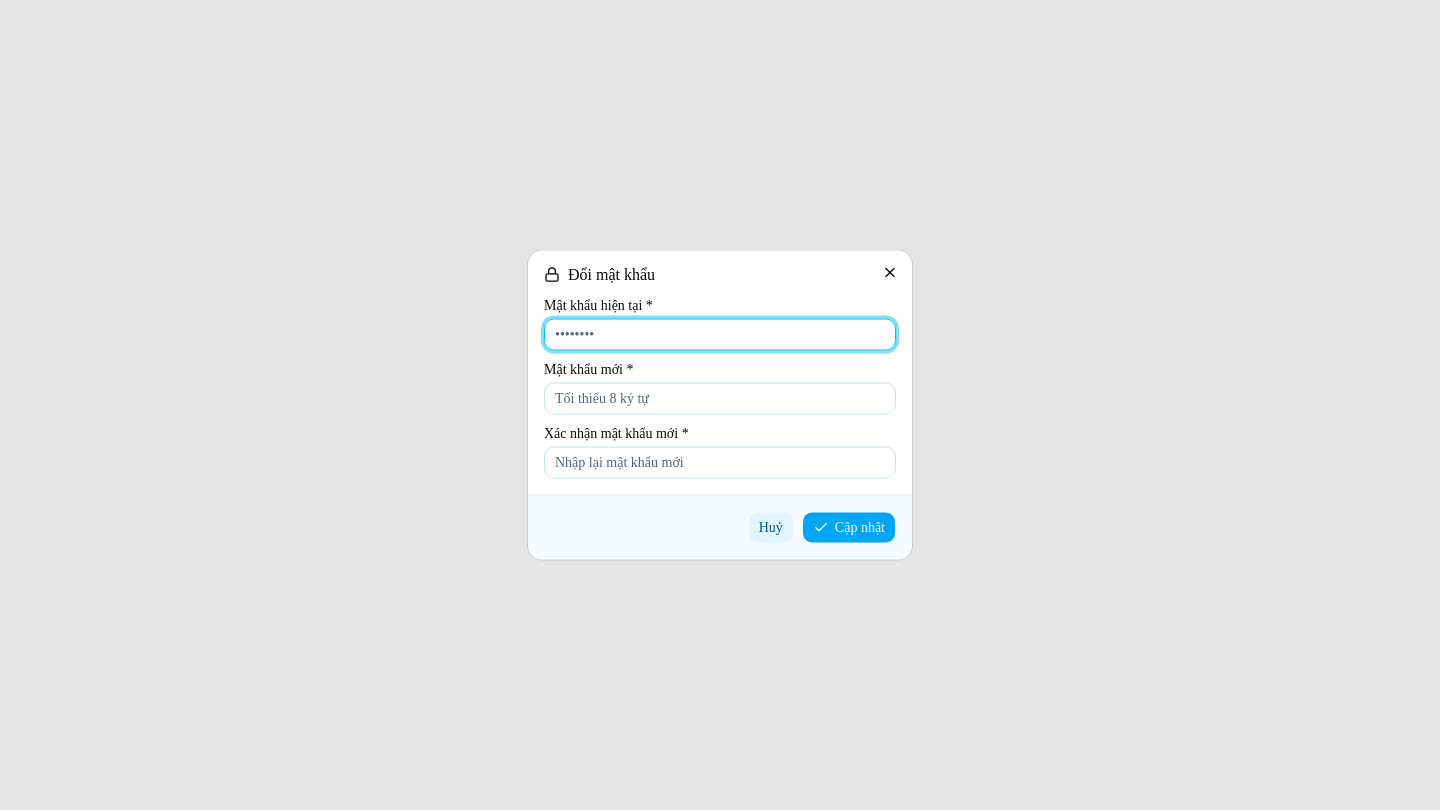
Test case: ChangePasswordModal › on 400 (sai mật khẩu cũ): shows inline error under matKhauCu
The image size is (1440, 810).
Step 1. Type "wrongOldPw" into the password field labelled "Mật khẩu hiện tại *" → (720, 334), box x1=544 y1=318 x2=896 y2=350
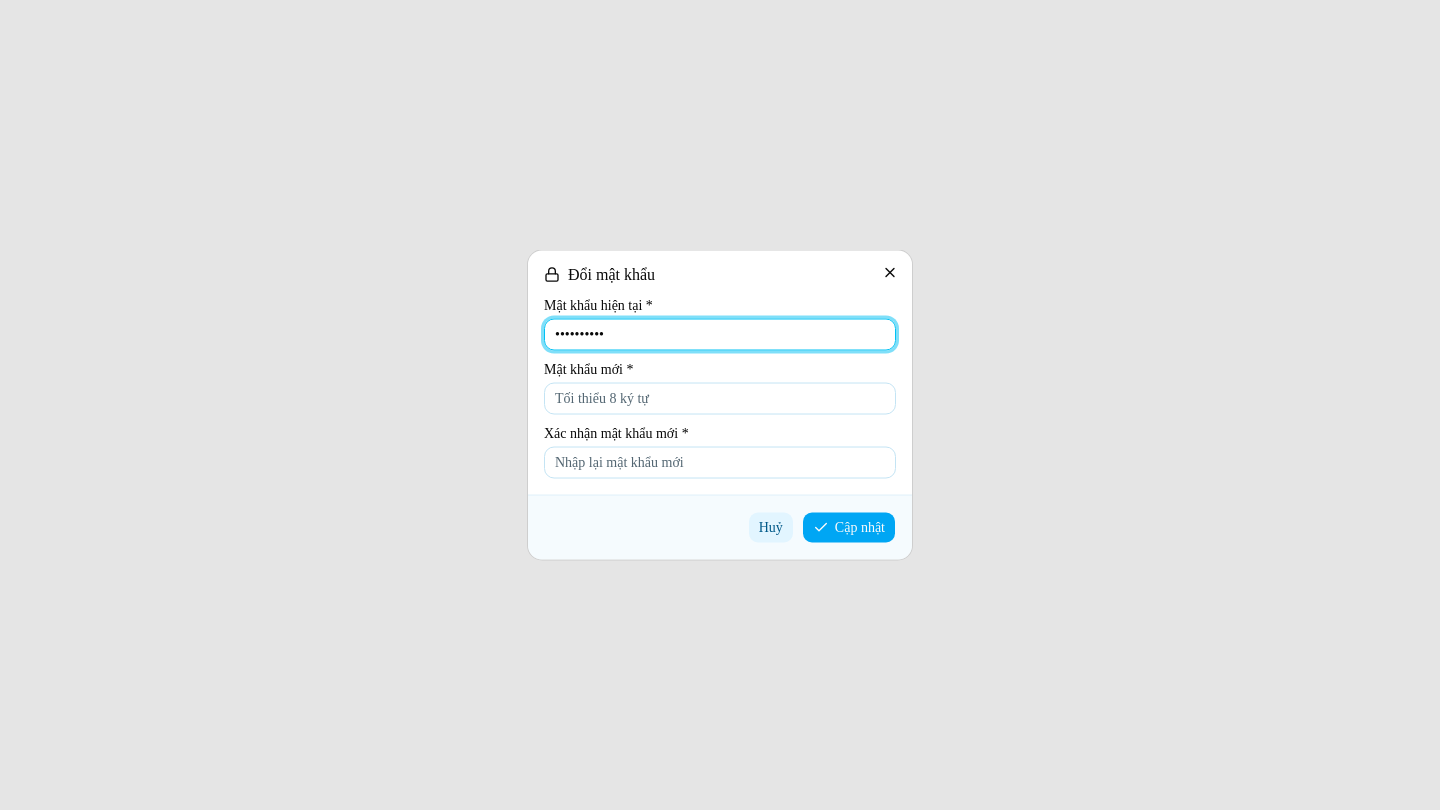
Step 2. Type "newSecret9" into the password field labelled "Mật khẩu mới *" → (720, 398), box x1=544 y1=382 x2=896 y2=414
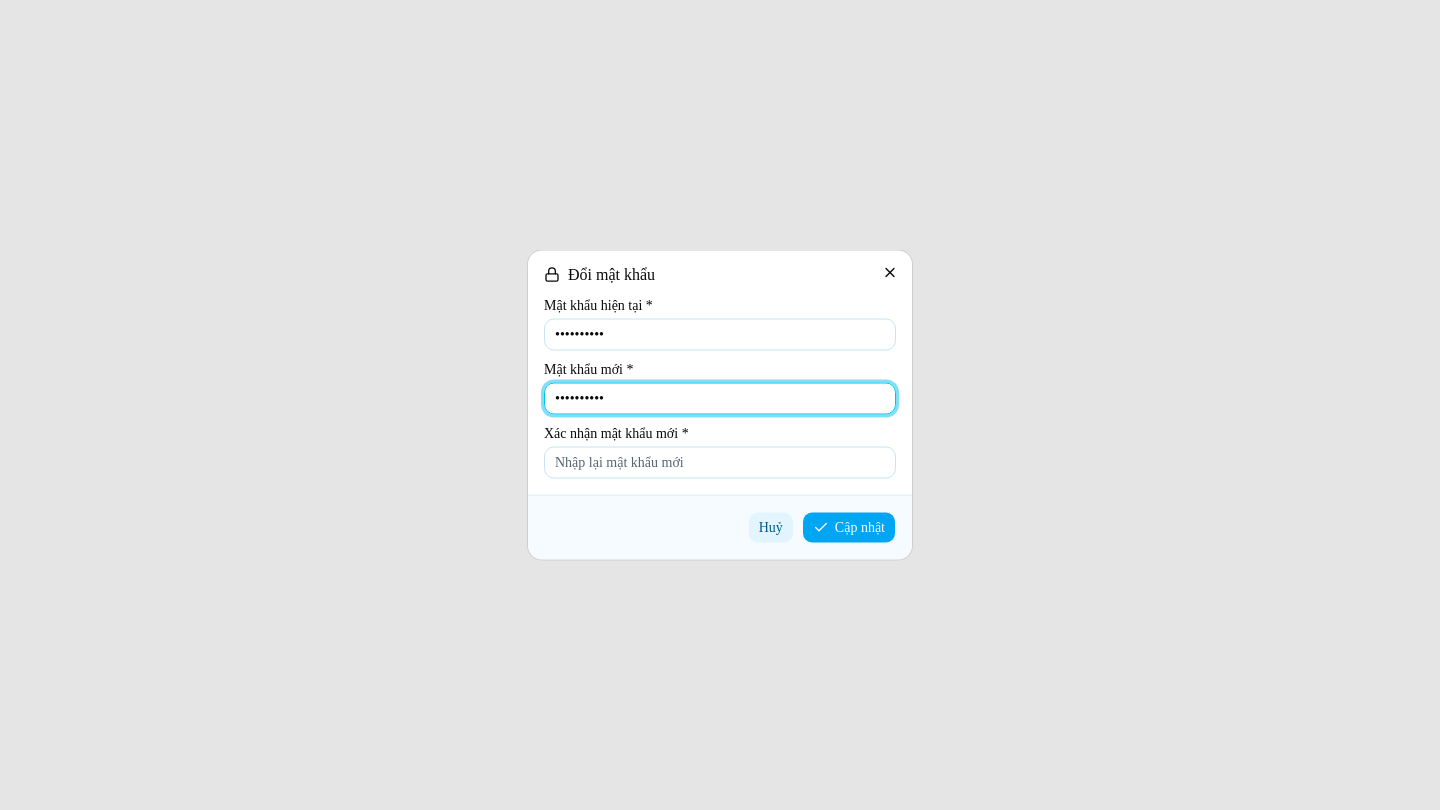
Step 3. Type "newSecret9" into the password field labelled "Xác nhận mật khẩu mới *" → (720, 462), box x1=544 y1=446 x2=896 y2=478
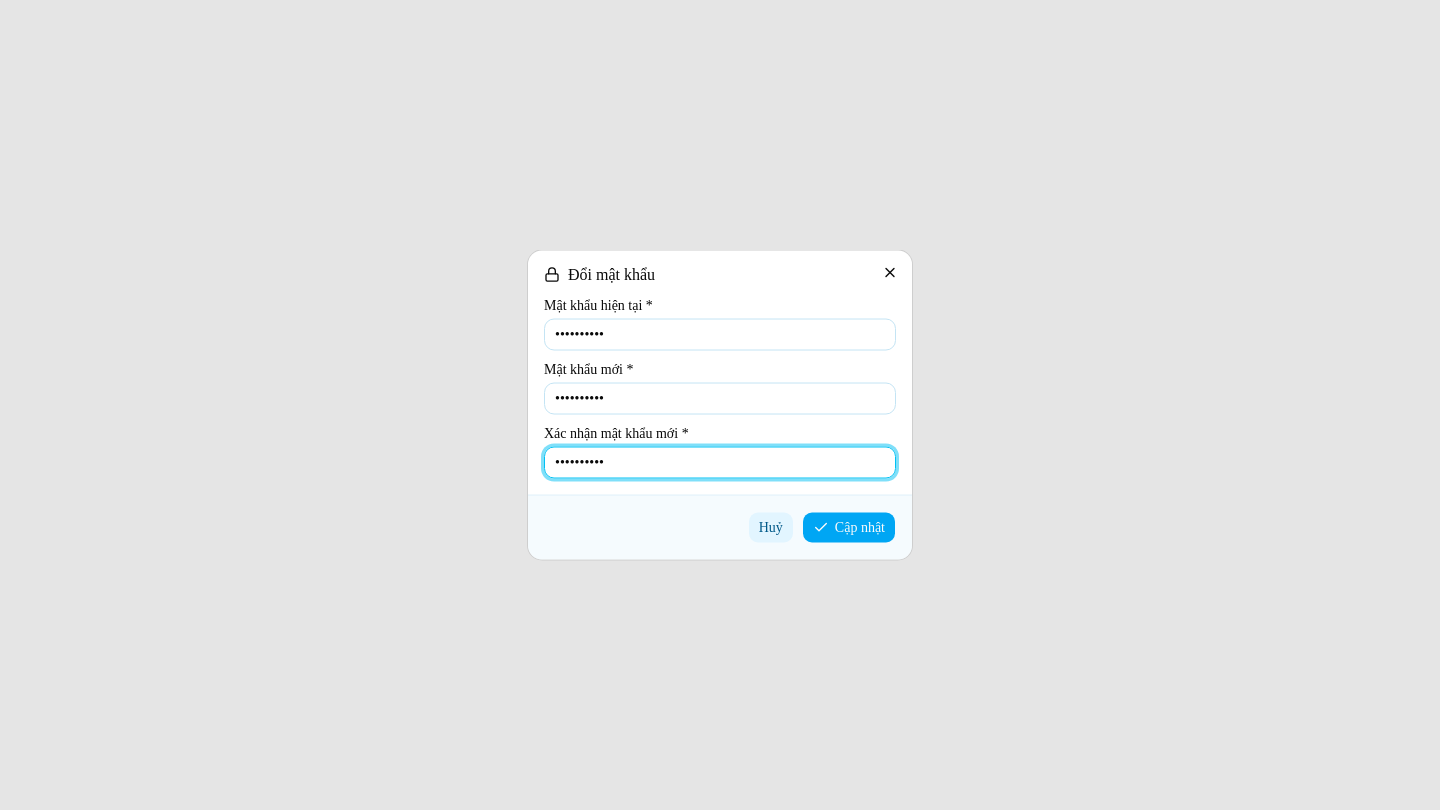
Step 4. Click the button "Cập nhật" → click(849, 528), box x1=802 y1=512 x2=896 y2=544
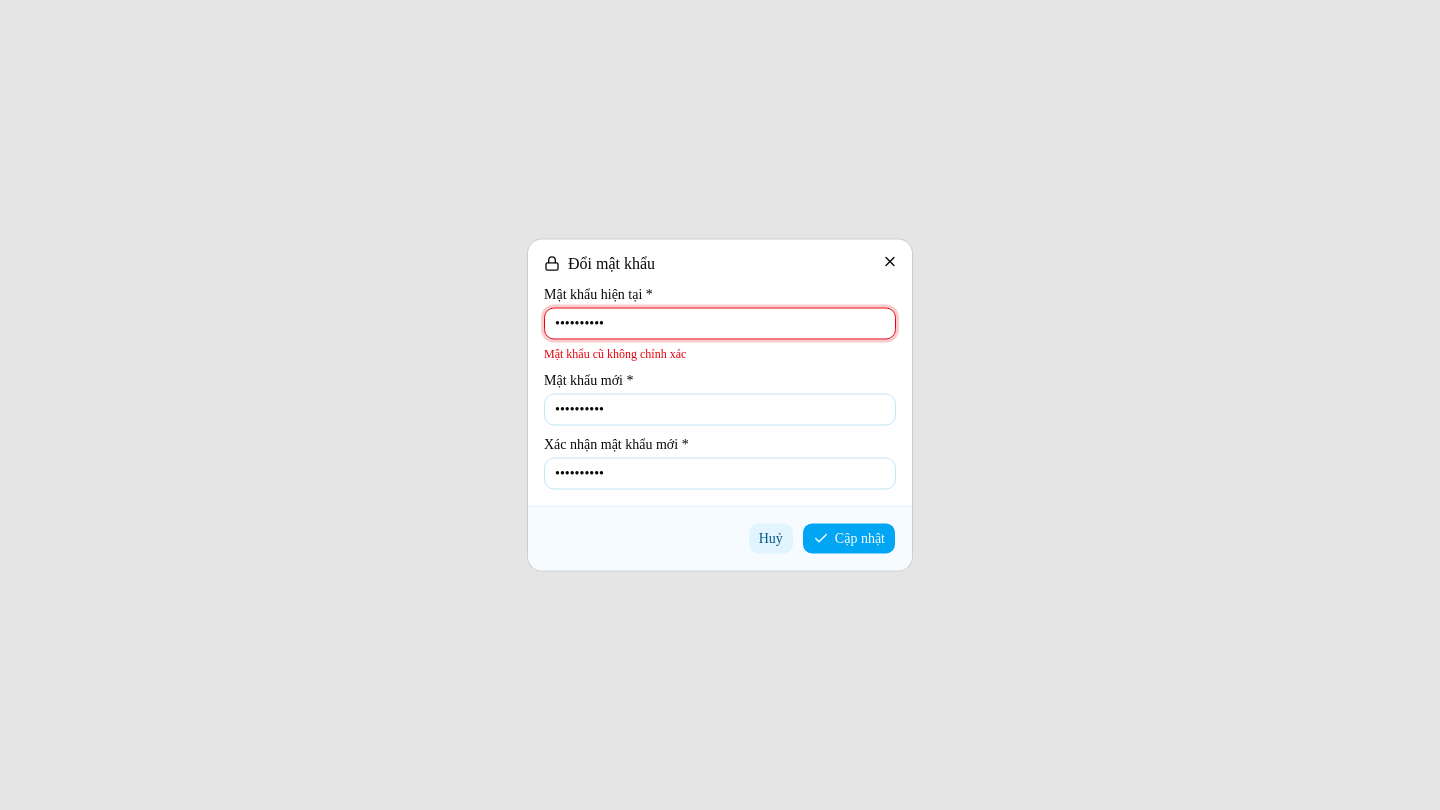
Expected: the text "Mật khẩu cũ không chính xác" is shown, x1=544 y1=346 x2=686 y2=360
